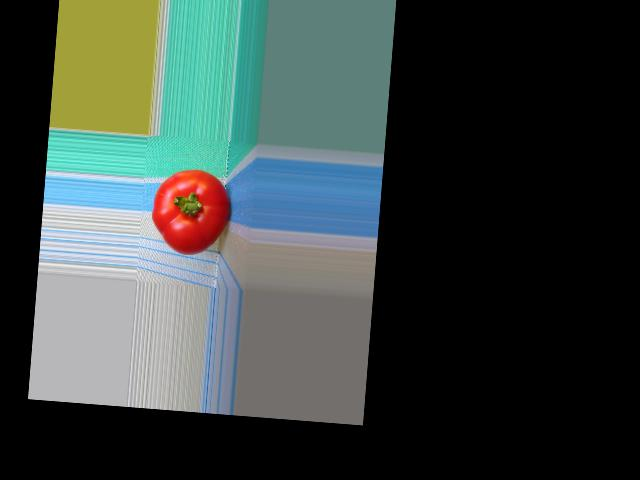tomato: (149, 166, 233, 257)
